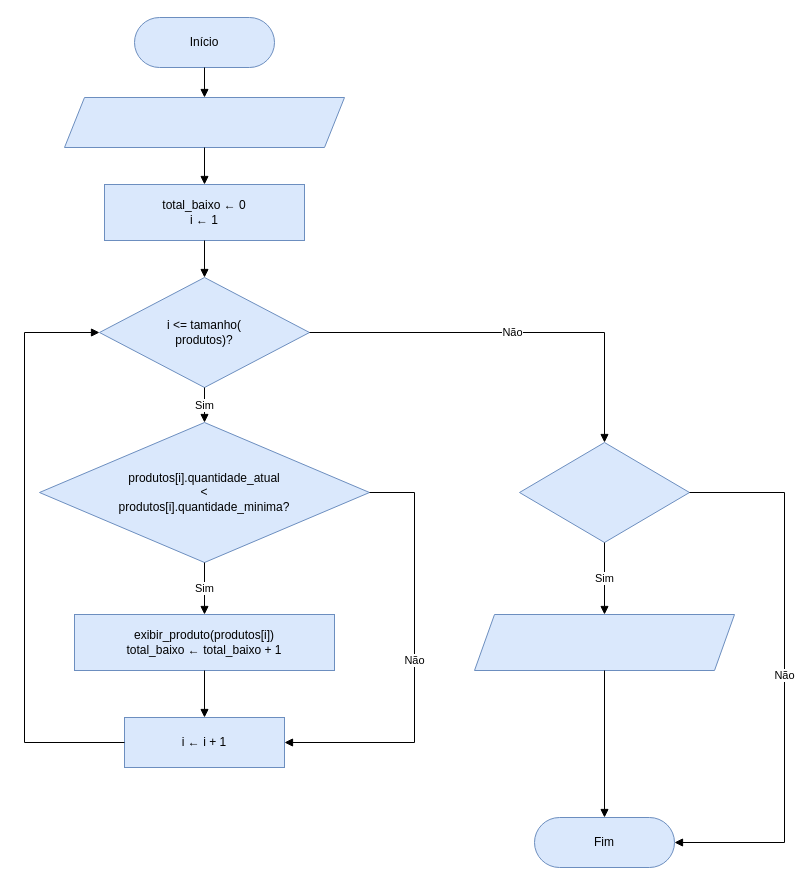
This 812x885 diagram has some shape labels left out. Here are the shapes that lost their labels. From the top down, the centre of each, then its label:
the point at 204,122: Escrever "Relatório de Estoque Baixo"
the point at 604,492: total_baixo = 0?
the point at 604,642: Escrever "Nenhum produto com estoque baixo."
